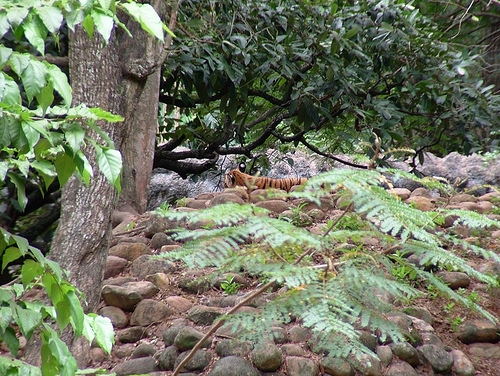Tigre: (222, 163, 315, 196)
